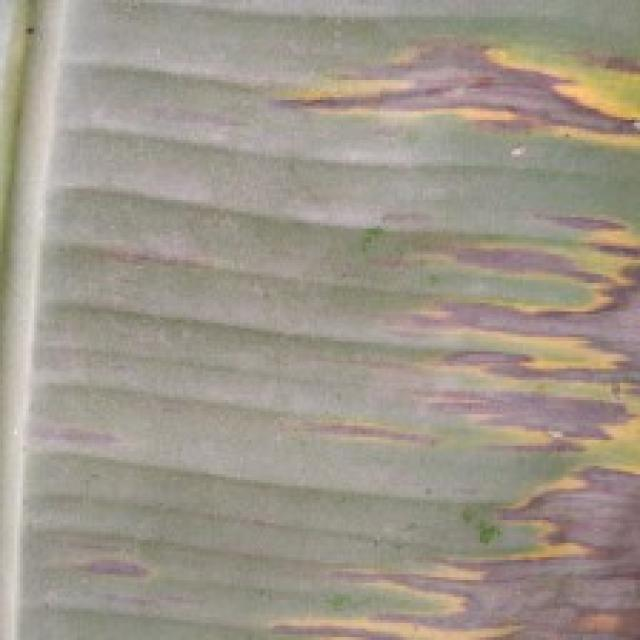Early_leaf_spot: (264, 31, 640, 640), (294, 166, 640, 466), (251, 0, 640, 169), (106, 223, 221, 325), (56, 513, 163, 609)
